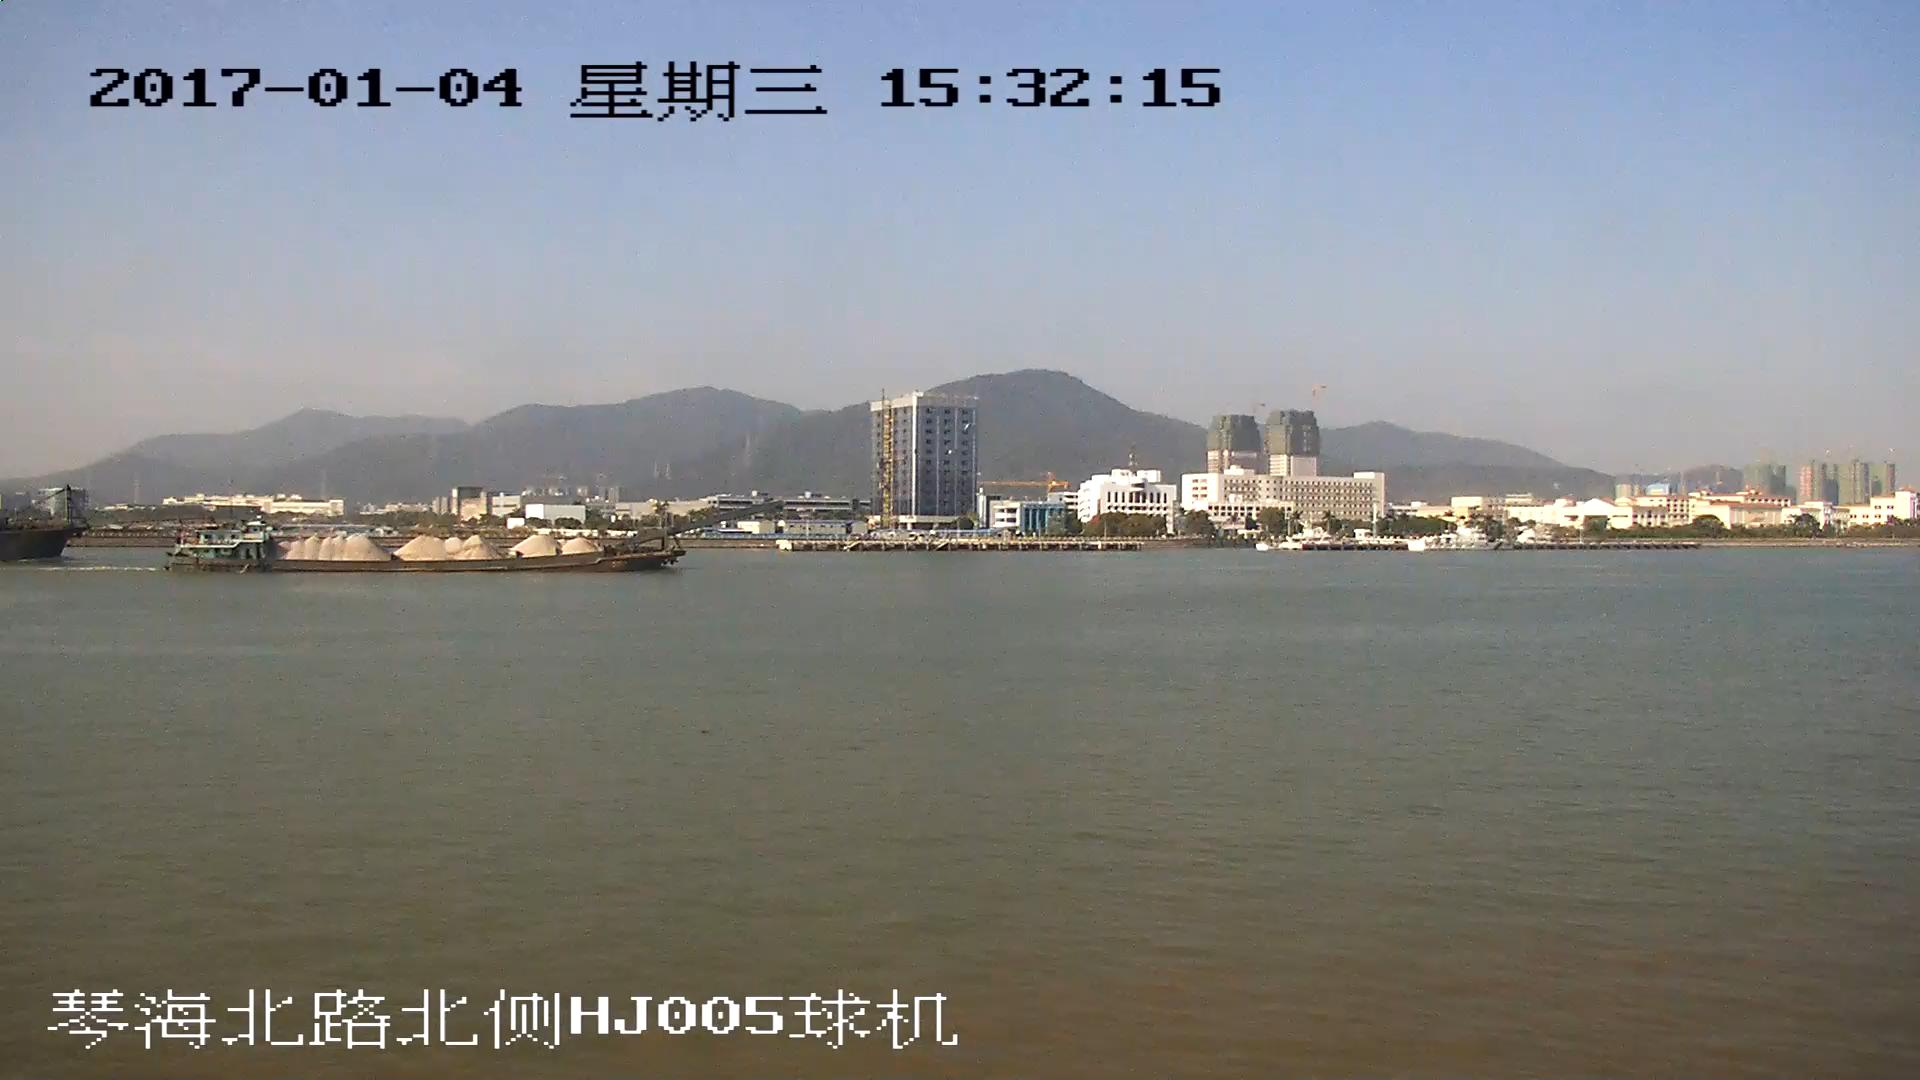ore carrier: (171, 503, 780, 574)
